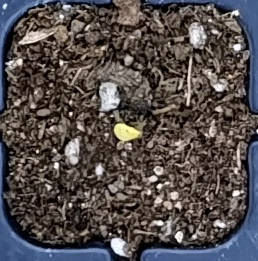pepper seed: (43, 51, 185, 194)
